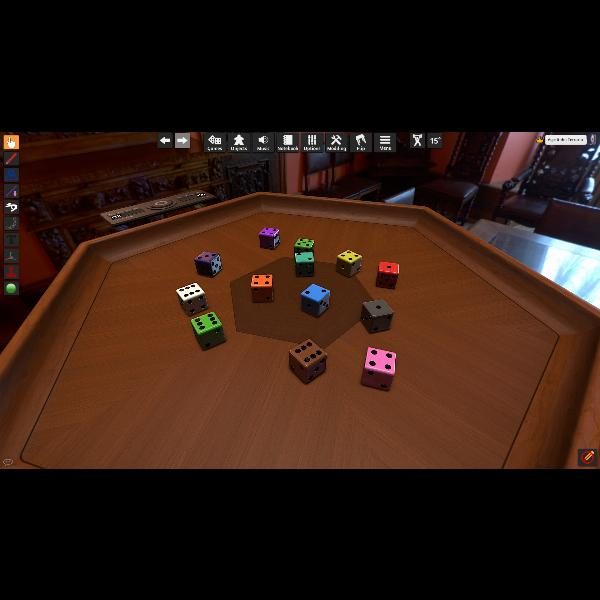d6: (360, 347, 396, 391), (289, 339, 323, 383), (190, 312, 226, 350), (176, 282, 210, 316), (362, 298, 394, 332), (299, 283, 327, 317), (193, 250, 220, 278), (250, 274, 274, 302), (334, 249, 358, 277), (377, 260, 399, 288), (295, 251, 314, 276), (259, 227, 279, 249), (294, 237, 312, 255)
